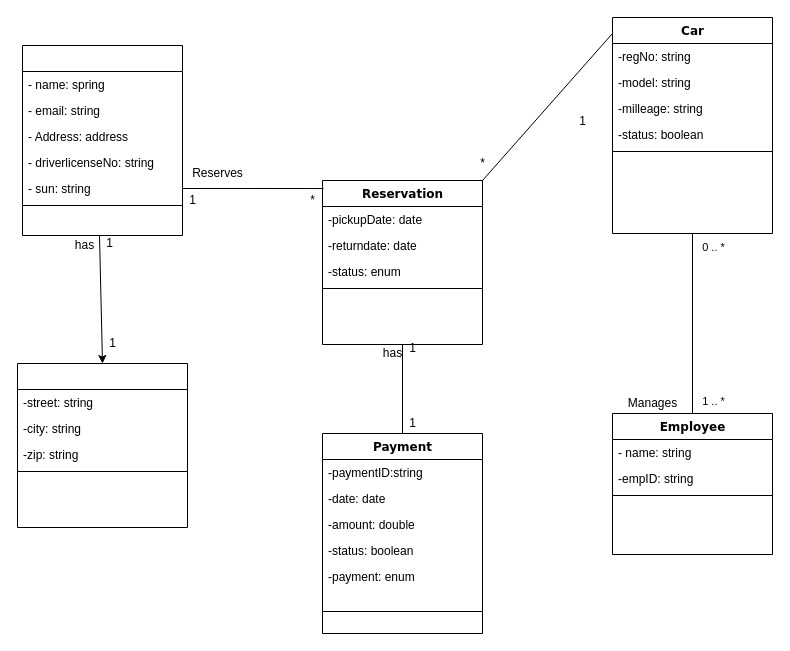
Image size: 790x651. Some labels were removed from this diagram. Here are the shapes that lost their labels. From the top down, the box of each, then its label:
(22, 44, 182, 236): Customer
(16, 362, 188, 528): Address
